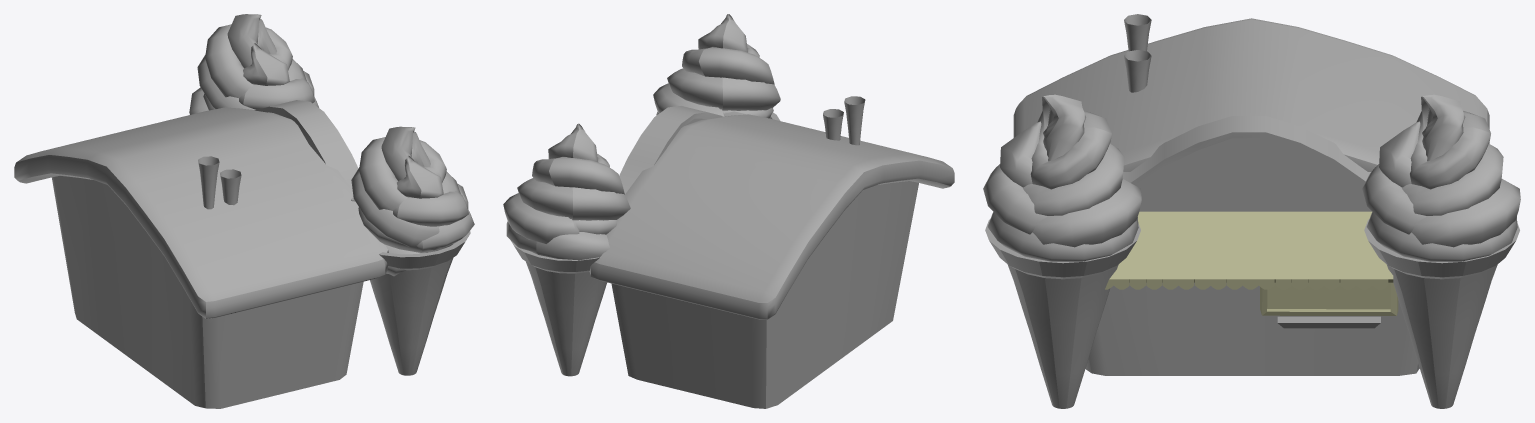
File: IceCreamShop.fbx
3 views of the same model, side by side, from view 1: azimuth 30°, elevation 25°; view 2: azimuth 150°, elevation 25°; view 3: azimuth 270°, elevation 25° (orthographic). The views are drawn at different scales.
Parts seen in each view (by area): view 1: pCube25, pCube1, pCylinder5, polySurface2, polySurface5, pTorus14, pTorus19, pCube23, pCylinder3, pCylinder4; view 2: pCube25, pCube1, polySurface5, polySurface2, pCylinder6, pCube23, pTorus19, pCylinder3, pCylinder4; view 3: pCube25, pCube1, pCube2, pCube22, polySurface5, polySurface2, pCylinder6, pCylinder5, pTorus19, pTorus14, pCube23, pPlane1 (+4 smaller).
Boxes of the visible parts, box(x1,y1,x2,y2) form: pCube25: box(14, 107, 388, 318); pCube1: box(51, 176, 363, 408); pCylinder5: box(370, 230, 470, 375); polySurface2: box(351, 126, 468, 250); polySurface5: box(197, 14, 314, 109); pTorus14: box(358, 155, 474, 276); pTorus19: box(189, 43, 318, 114); pCube23: box(255, 100, 358, 201); pCylinder3: box(198, 156, 219, 209); pCylinder4: box(220, 169, 241, 205); pCube25: box(589, 114, 954, 319); pCube1: box(611, 181, 918, 408); polySurface5: box(503, 123, 630, 243); polySurface2: box(653, 14, 780, 116); pCylinder6: box(510, 240, 607, 376); pCube23: box(619, 106, 746, 193); pTorus19: box(506, 153, 616, 260); pCylinder3: box(844, 96, 865, 145); pCylinder4: box(823, 109, 843, 140); pCube25: box(1013, 18, 1489, 171); pCube1: box(1085, 282, 1419, 375); pCube2: box(1109, 211, 1393, 282); pCube22: box(1136, 138, 1371, 211); polySurface5: box(1401, 94, 1520, 247); polySurface2: box(1022, 94, 1141, 247); pCylinder6: box(1364, 219, 1519, 408); pCylinder5: box(985, 219, 1140, 408); pTorus19: box(1362, 121, 1517, 261); pTorus14: box(983, 121, 1138, 261); pCube23: box(1120, 116, 1370, 188); pPlane1: box(1267, 282, 1390, 309).
Bounding box in the file's own units: 8.46 × 7.11 × 11.26.
